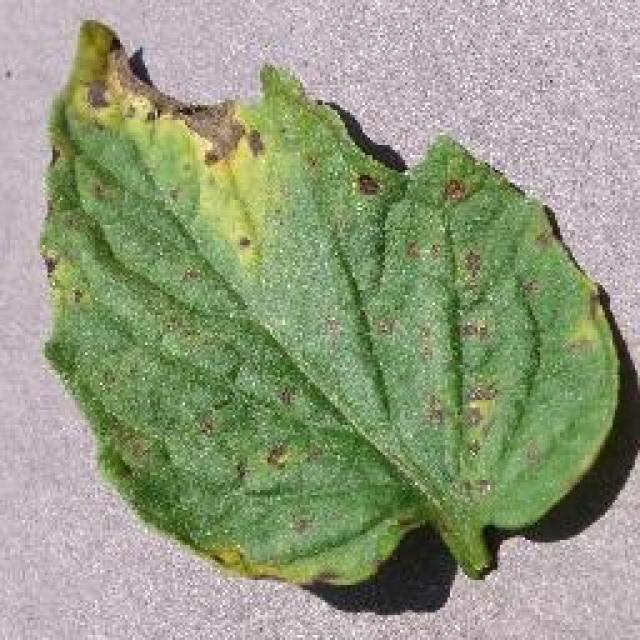Tomato Septoria spot leaf: (47, 16, 620, 586)
